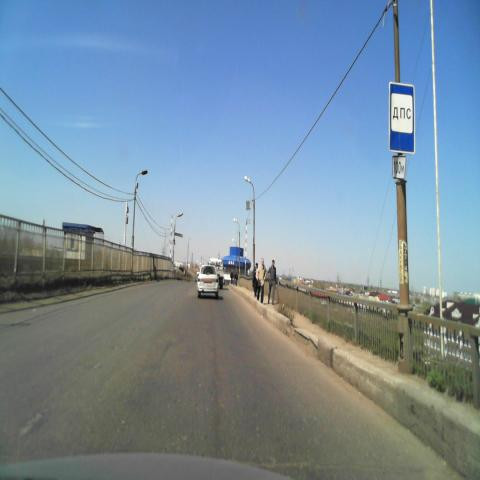7_12: (389, 81, 416, 154)
8_1_1: (392, 156, 406, 179)
